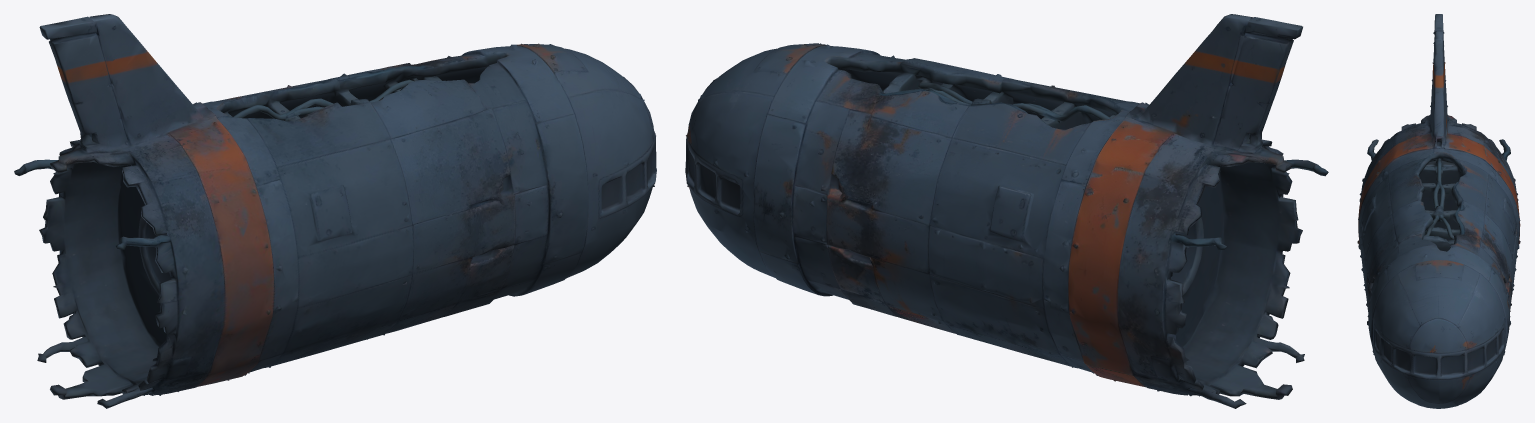
Rendered from ship-hull.glb.
The picture shows the model from 3 angles, left to right: view 1: azimuth 30°, elevation 25°; view 2: azimuth 150°, elevation 25°; view 3: azimuth 270°, elevation 25°; orthographic projection. The views are drawn at different scales.
Parts seen in each view (by area): view 1: tripo_node_da8e2425-fbf2-4a31-8b48-8d5c506cfca5; view 2: tripo_node_da8e2425-fbf2-4a31-8b48-8d5c506cfca5; view 3: tripo_node_da8e2425-fbf2-4a31-8b48-8d5c506cfca5.
Boxes of the visible parts, bbox=[...] form: tripo_node_da8e2425-fbf2-4a31-8b48-8d5c506cfca5: bbox=[14, 14, 656, 408]; tripo_node_da8e2425-fbf2-4a31-8b48-8d5c506cfca5: bbox=[685, 14, 1328, 408]; tripo_node_da8e2425-fbf2-4a31-8b48-8d5c506cfca5: bbox=[1357, 14, 1520, 408].
Bounding box in the file's own units: 4.12 × 2.5 × 1.51.
Materials: 1 (1 with a texture image).
